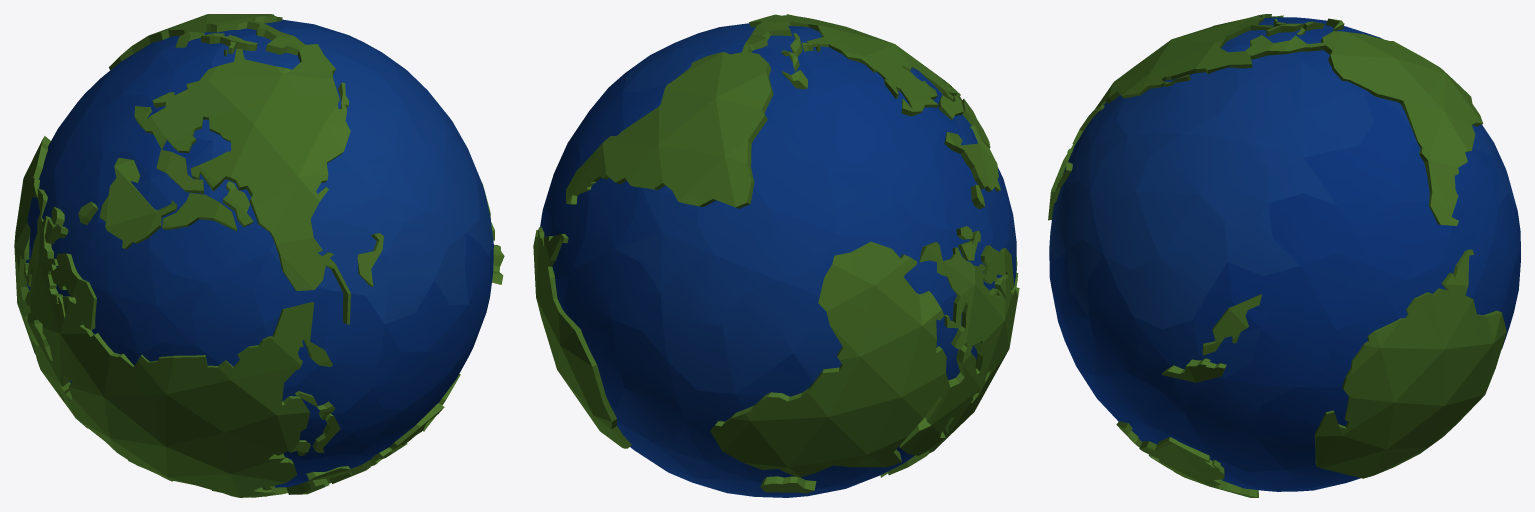
The model's file is EarthCartoon1.fbx.
3 views of the same model, side by side, from view 1: azimuth 30°, elevation 25°; view 2: azimuth 150°, elevation 25°; view 3: azimuth 270°, elevation 25° (orthographic).
Parts seen in each view (by area): view 1: Icosphere.010; view 2: Icosphere.010; view 3: Icosphere.010.
Part boxes in pixels (bbox=[...]): Icosphere.010: bbox=[14, 14, 504, 497]; Icosphere.010: bbox=[533, 14, 1019, 497]; Icosphere.010: bbox=[1048, 14, 1520, 497].
Size of the model in its own units: 81.63 by 81.66 by 80.25.
Materials: 1 (1 with a texture image).
